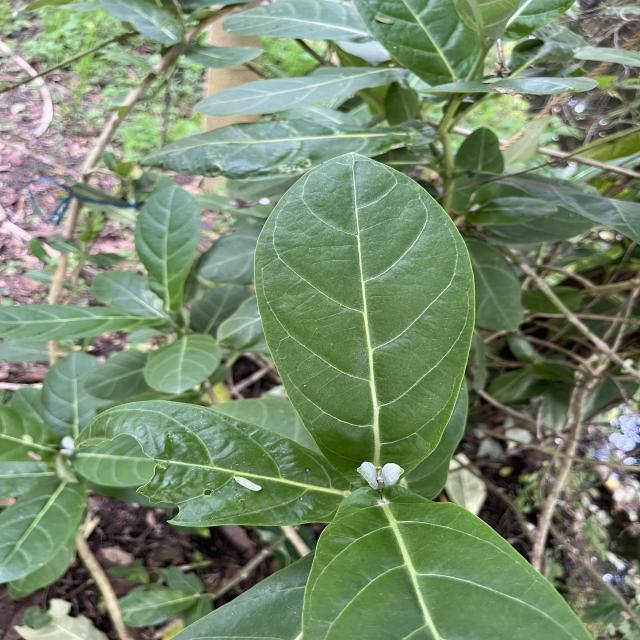Calotropis gigantea: (251, 150, 478, 486), (132, 184, 203, 283), (143, 329, 222, 396)
